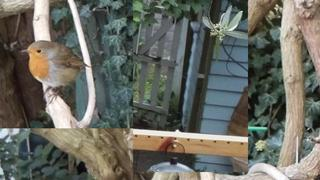robin: (20, 40, 93, 104)
